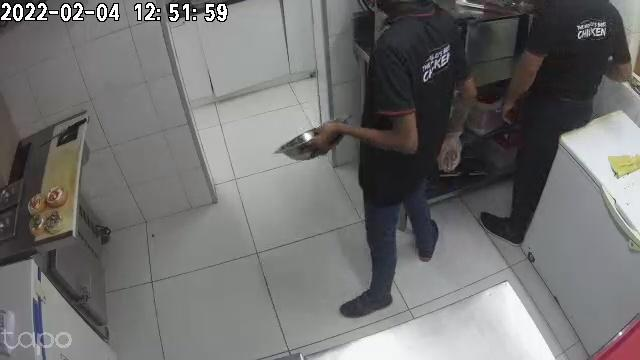gloves: (438, 123, 463, 172)
